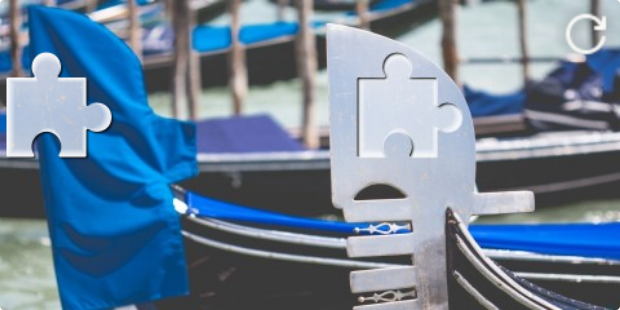target: (358, 52, 463, 159)
